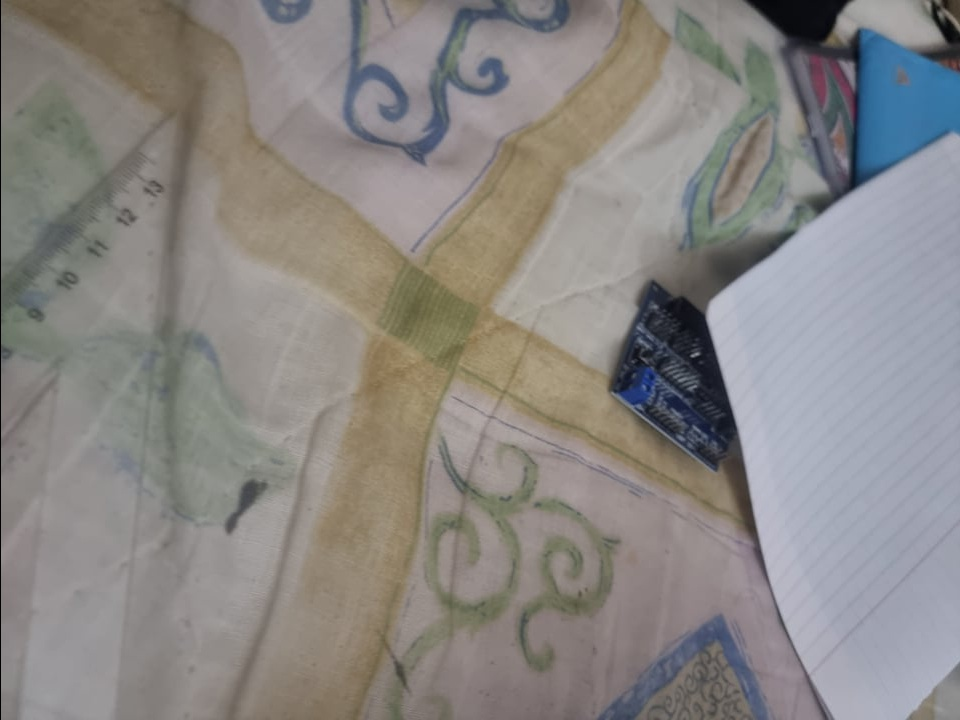5V EXPANSION: (609, 278, 747, 472)
